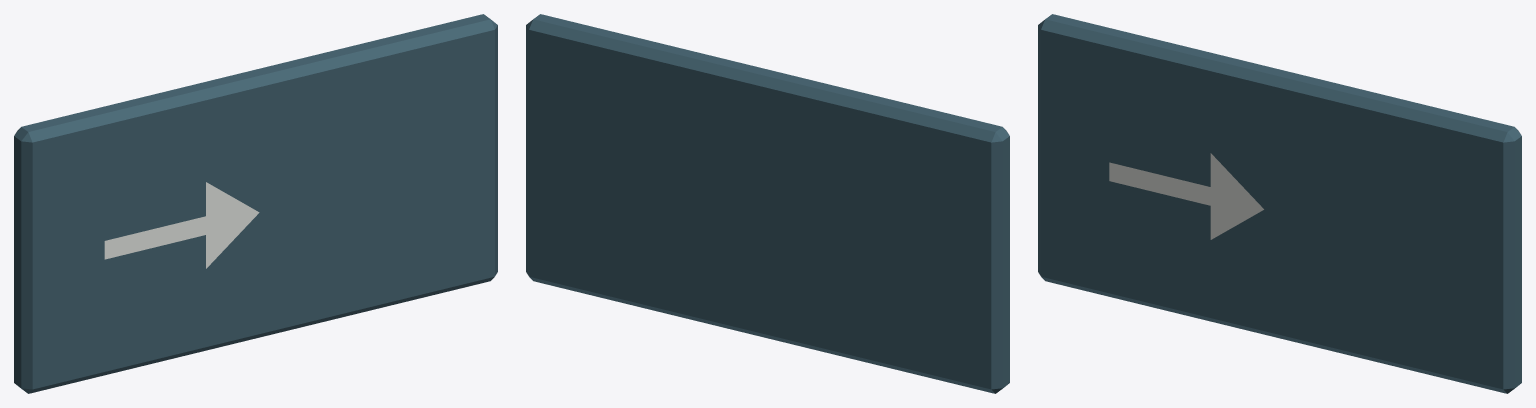
The model's file is facility_wayfinding.glb.
3 renders of one model, left to right at view 1: azimuth 30°, elevation 25°; view 2: azimuth 150°, elevation 25°; view 3: azimuth 330°, elevation 25°, orthographic.
Visible parts, largest first — view 1: VIS_dark_sign_board, VIS_formal_coping; view 2: VIS_dark_sign_board; view 3: VIS_dark_sign_board, VIS_formal_coping.
Part boxes in pixels (<box>): VIS_dark_sign_board: <box>14,14,497,393</box>; VIS_formal_coping: <box>104,182,259,268</box>; VIS_dark_sign_board: <box>526,14,1009,393</box>; VIS_dark_sign_board: <box>1038,14,1521,393</box>; VIS_formal_coping: <box>1109,153,1263,239</box>.
Bounding box in the file's own units: 0.8 × 0.42 × 0.0505.
